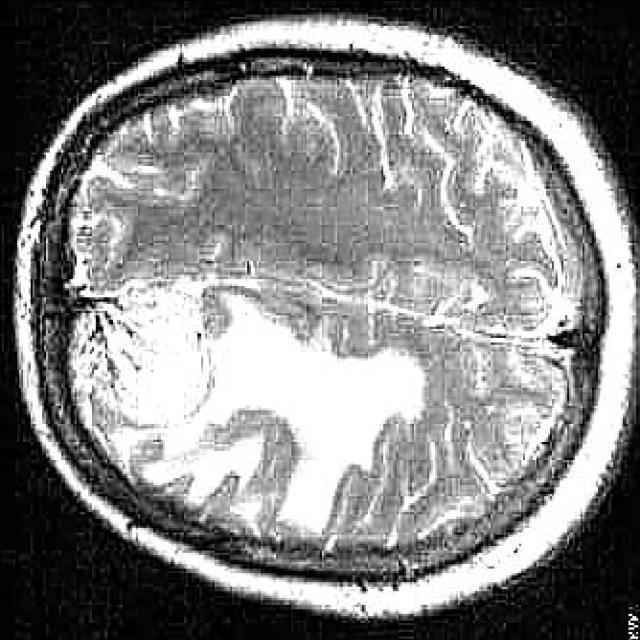tumor: (73, 280, 427, 536)
